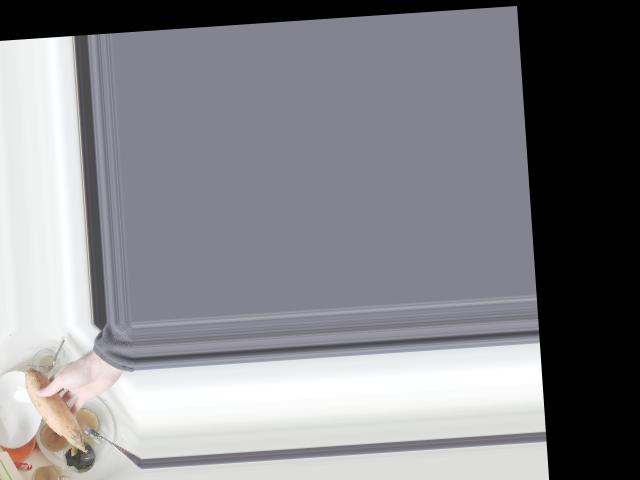sweet_potato: (21, 364, 89, 454)
